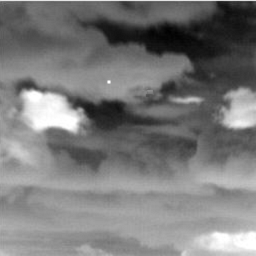Target: (107, 80, 112, 85)
